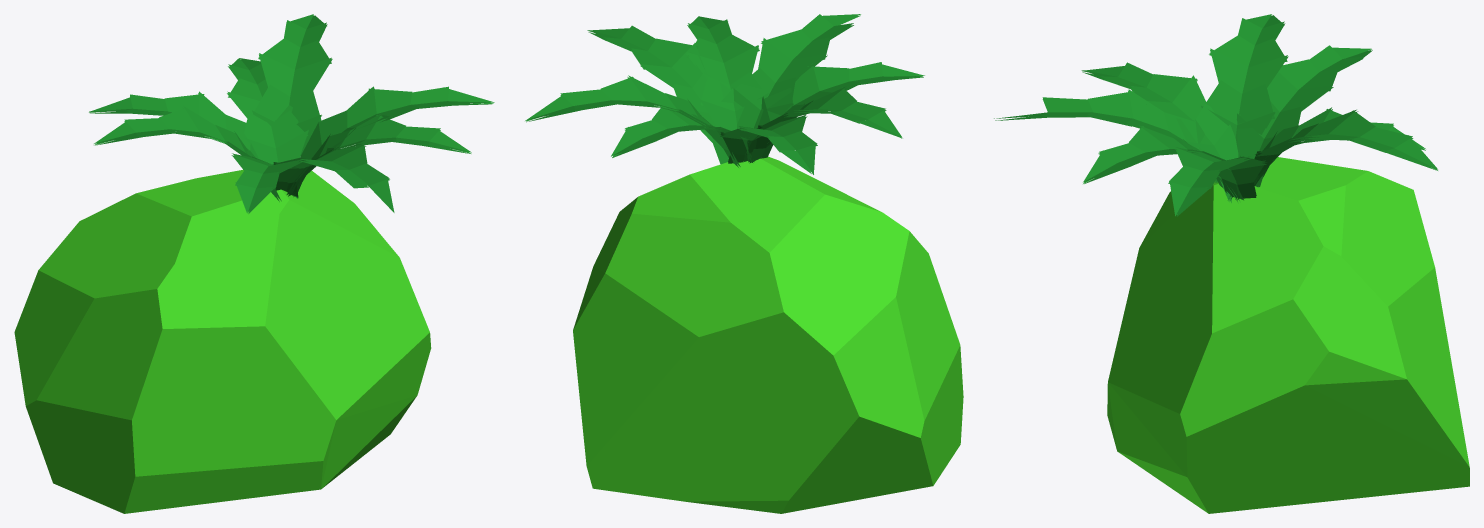
The model's file is FernRock_Split.fbx.
3 views of the same model, side by side, from view 1: azimuth 30°, elevation 25°; view 2: azimuth 150°, elevation 25°; view 3: azimuth 270°, elevation 25° (orthographic). The views are drawn at different scales.
Visible parts, largest first — view 1: FernRock_PieceA, FernRock_PieceB, FernRock_Fern_R, FernRock_Fern_L; view 2: FernRock_PieceA, FernRock_PieceB, FernRock_Fern_R, FernRock_Fern_L; view 3: FernRock_PieceB, FernRock_Fern_R, FernRock_Fern_L, FernRock_PieceA.
Part boxes in pixels (x1,y1,x2,y2): FernRock_PieceA: (14,181,293,513); FernRock_PieceB: (185,170,431,493); FernRock_Fern_R: (193,14,494,212); FernRock_Fern_L: (89,94,284,213); FernRock_PieceA: (692,174,963,513); FernRock_PieceB: (573,156,805,502); FernRock_Fern_R: (525,14,860,167); FernRock_Fern_L: (746,62,924,174); FernRock_PieceB: (1107,170,1469,513); FernRock_Fern_R: (994,84,1437,216); FernRock_Fern_L: (1081,14,1372,107); FernRock_PieceA: (1129,157,1435,288).
Size of the model in its own units: 9.15 by 7.57 by 8.79.
